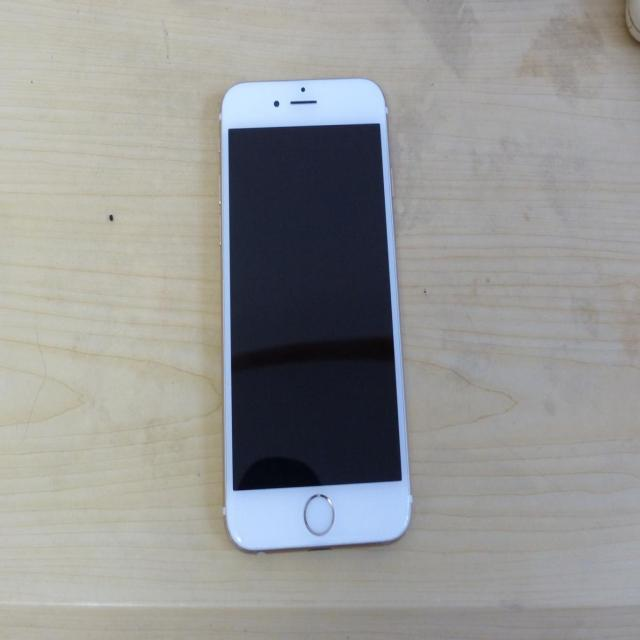Phone: (222, 71, 413, 556)
